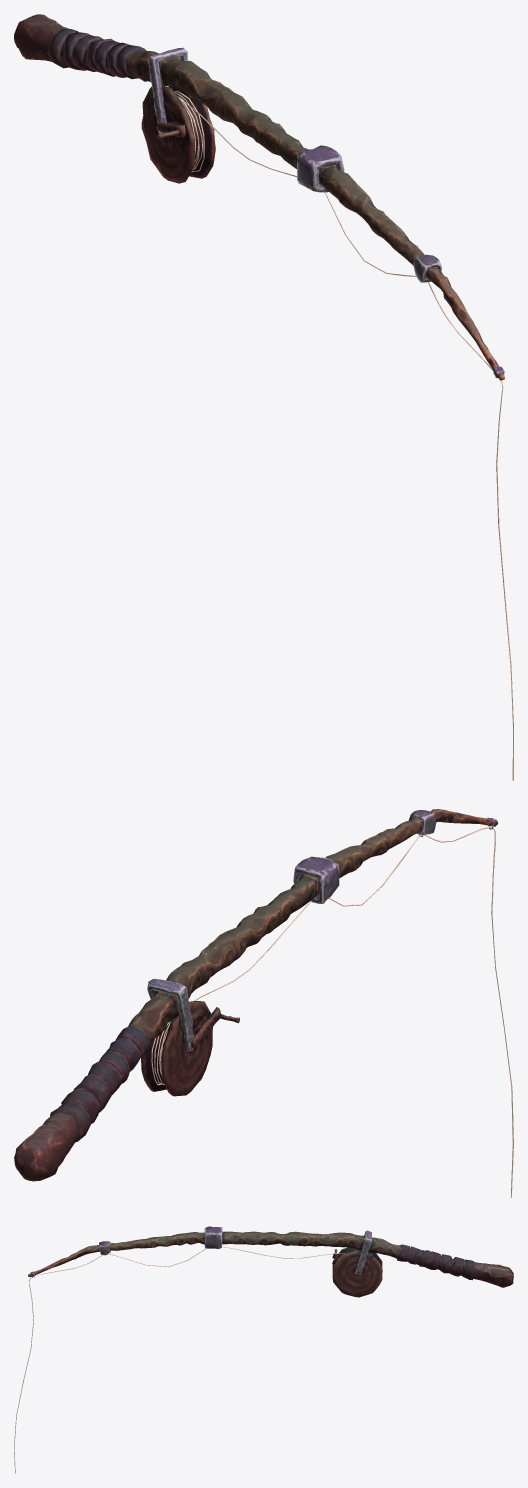
Rendered from fishing_rod.glb.
3 renders of one model, top to bottom at view 1: azimuth 30°, elevation 25°; view 2: azimuth 150°, elevation 25°; view 3: azimuth 270°, elevation 25°, orthographic. The views are drawn at different scales.
Visible parts, largest first — view 1: LowPolyRod; view 2: LowPolyRod; view 3: LowPolyRod.
Boxes of the visible parts, x1,y1,x2,y2 form: LowPolyRod: (14,14,513,780); LowPolyRod: (14,809,513,1197); LowPolyRod: (14,1226,513,1473).
Bounding box in the file's own units: 0.0658 × 0.5104 × 0.9429.
10 materials, 9 textured.
